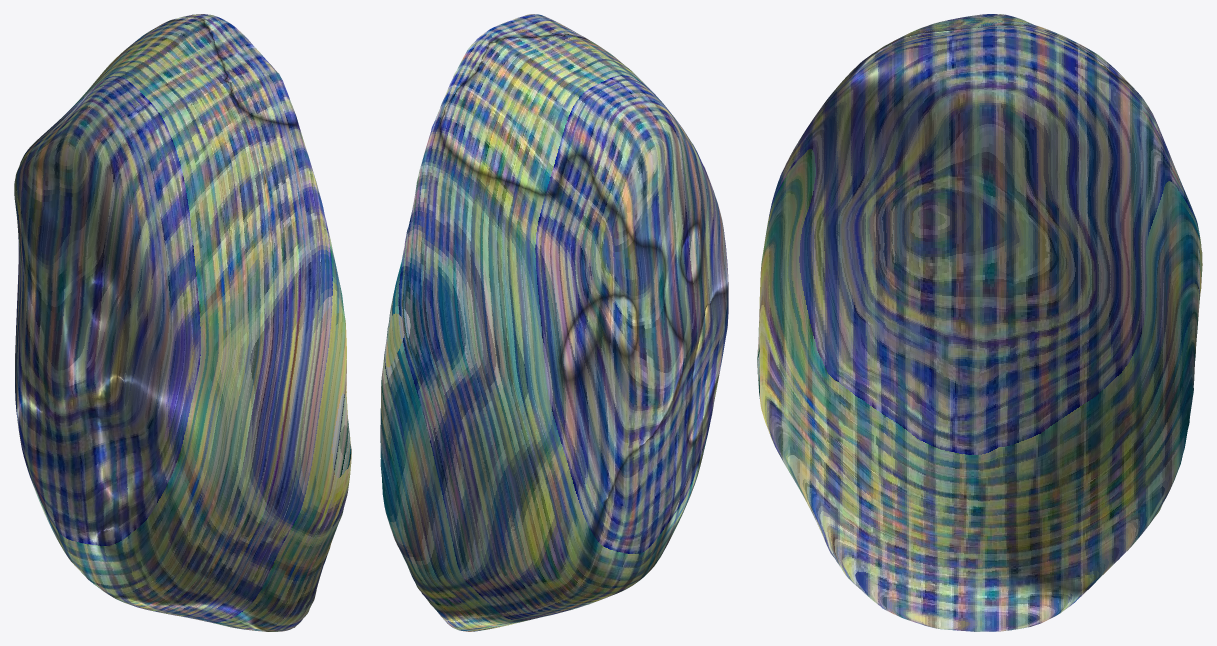
3 views of the same model, side by side, from view 1: azimuth 30°, elevation 25°; view 2: azimuth 150°, elevation 25°; view 3: azimuth 270°, elevation 25° (orthographic).
Parts seen in each view (by area): view 1: Renderer Node; view 2: Renderer Node; view 3: Renderer Node.
Boxes of the visible parts, x1,y1,x2,y2 form: Renderer Node: (14,14,351,631); Renderer Node: (380,14,728,631); Renderer Node: (757,14,1202,631).
Bounding box in the file's own units: 0.1538 × 0.4465 × 0.3005.
Materials: 1 (1 with a texture image).
